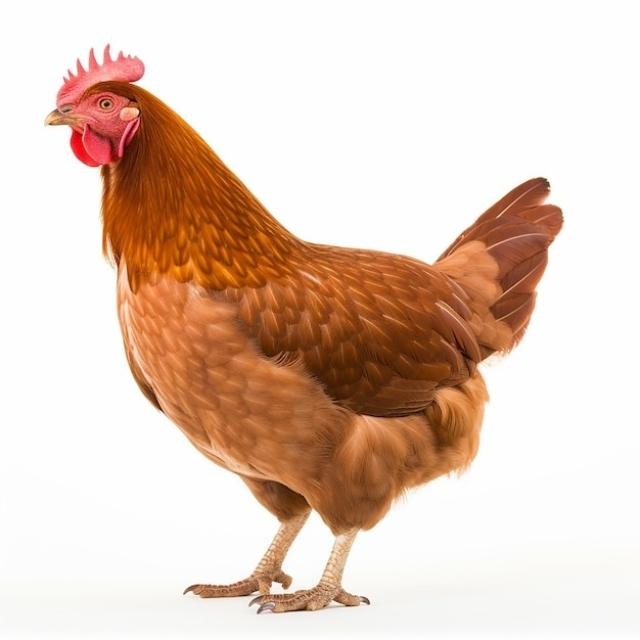Chicken: (42, 44, 563, 613)
